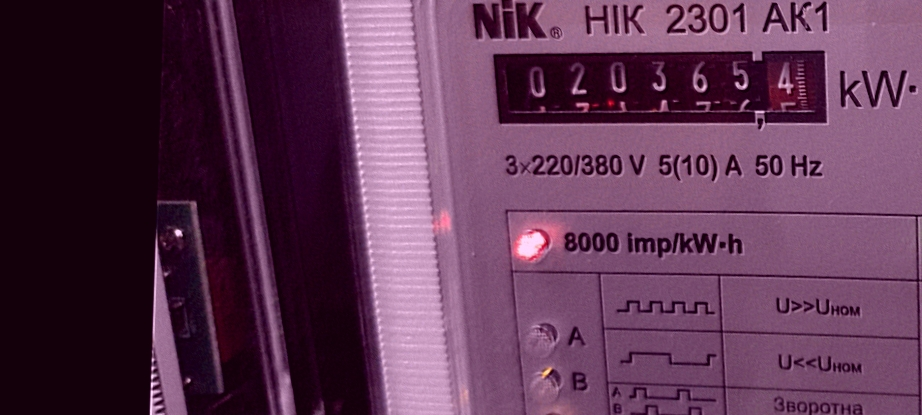0: (525, 62, 547, 97), (608, 57, 628, 93)
2: (565, 58, 588, 94)
3: (648, 55, 668, 91)
4: (775, 57, 795, 92)
5: (729, 56, 750, 89)
6: (689, 56, 709, 92)
screen: (474, 27, 846, 142)
